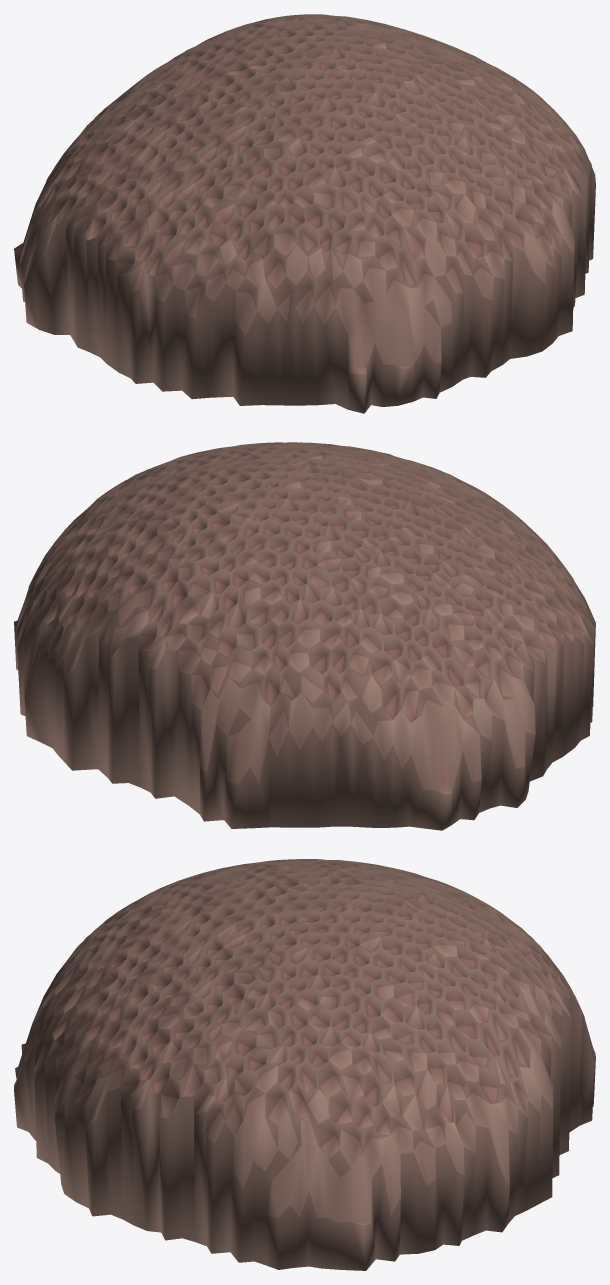
The model's file is massive-tabulate-coral.lod1.glb.
3 renders of one model, top to bottom at view 1: azimuth 30°, elevation 25°; view 2: azimuth 150°, elevation 25°; view 3: azimuth 270°, elevation 25°, orthographic. The views are drawn at different scales.
Visible parts, largest first — view 1: massive-tabulate-coral; view 2: massive-tabulate-coral; view 3: massive-tabulate-coral.
Boxes of the visible parts, left/top/right/bottom form: massive-tabulate-coral: left=14, top=14, right=595, bottom=413; massive-tabulate-coral: left=14, top=442, right=595, bottom=830; massive-tabulate-coral: left=14, top=859, right=595, bottom=1270.
Size of the model in its own units: 0.2062 by 0.0925 by 0.1899.
